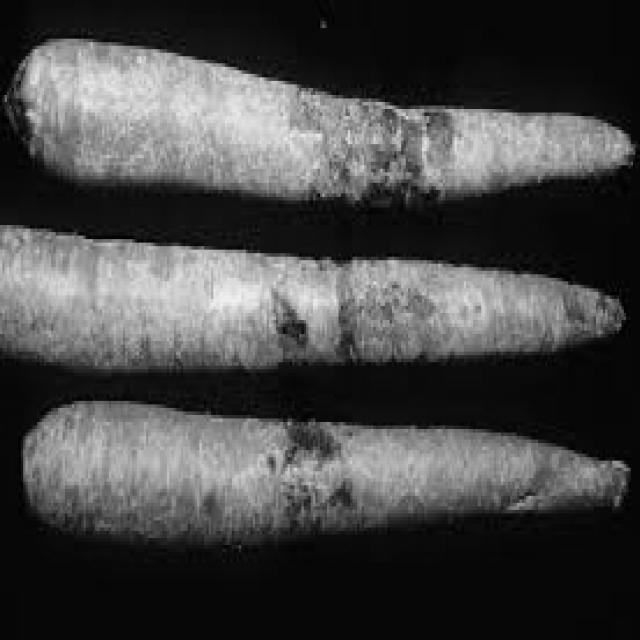Stale_Carrot: (1, 47, 633, 205), (0, 222, 627, 364), (23, 406, 627, 543)
